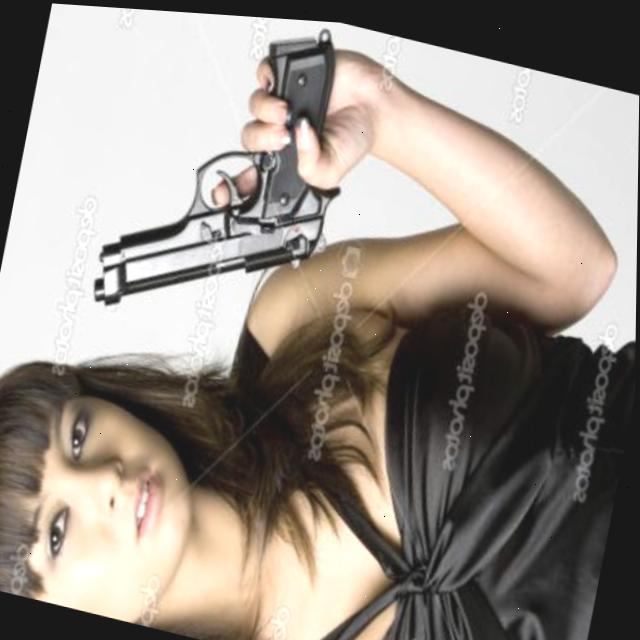pistol: (86, 18, 344, 314)
